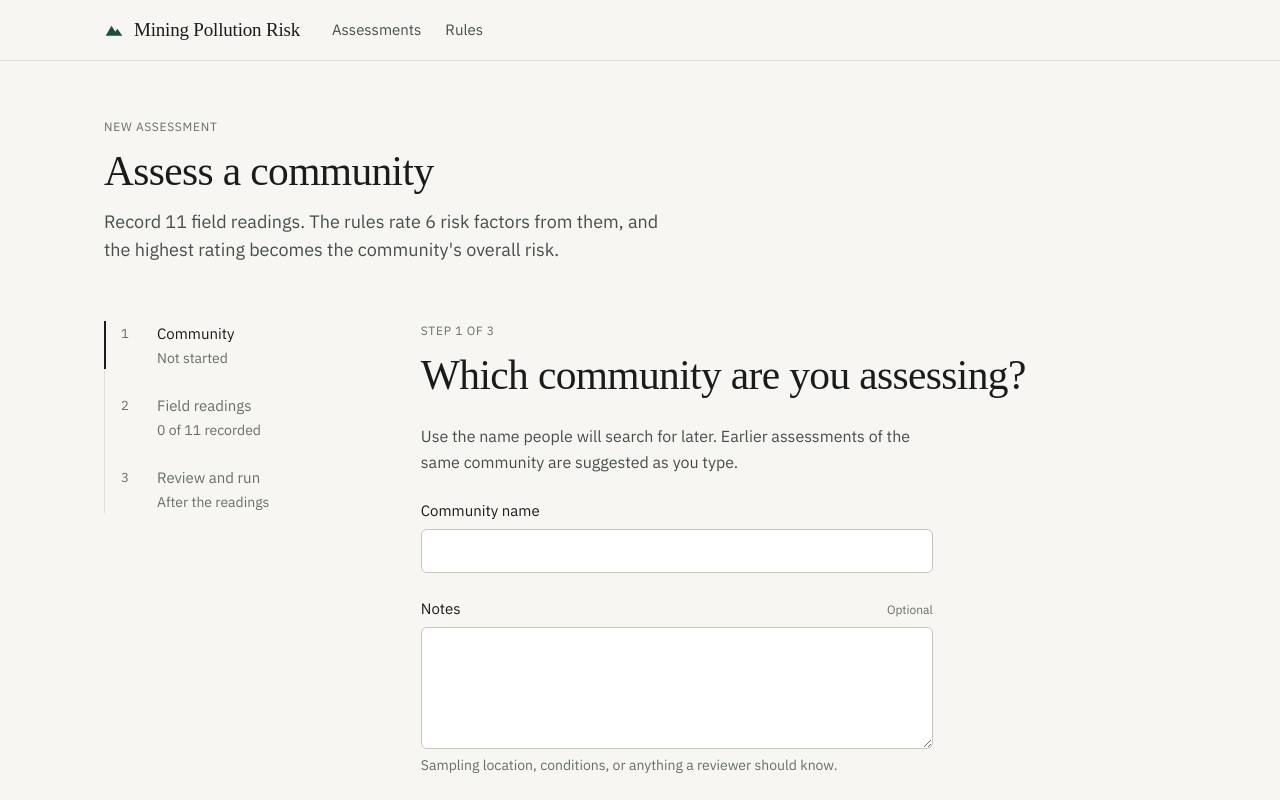
Test case: New assessment workflow › asks for confirmation before starting over
Type "Tarkwa" into the field labelled "Community name". click: (677, 551)
box: x1=421 y1=529 x2=933 y2=573
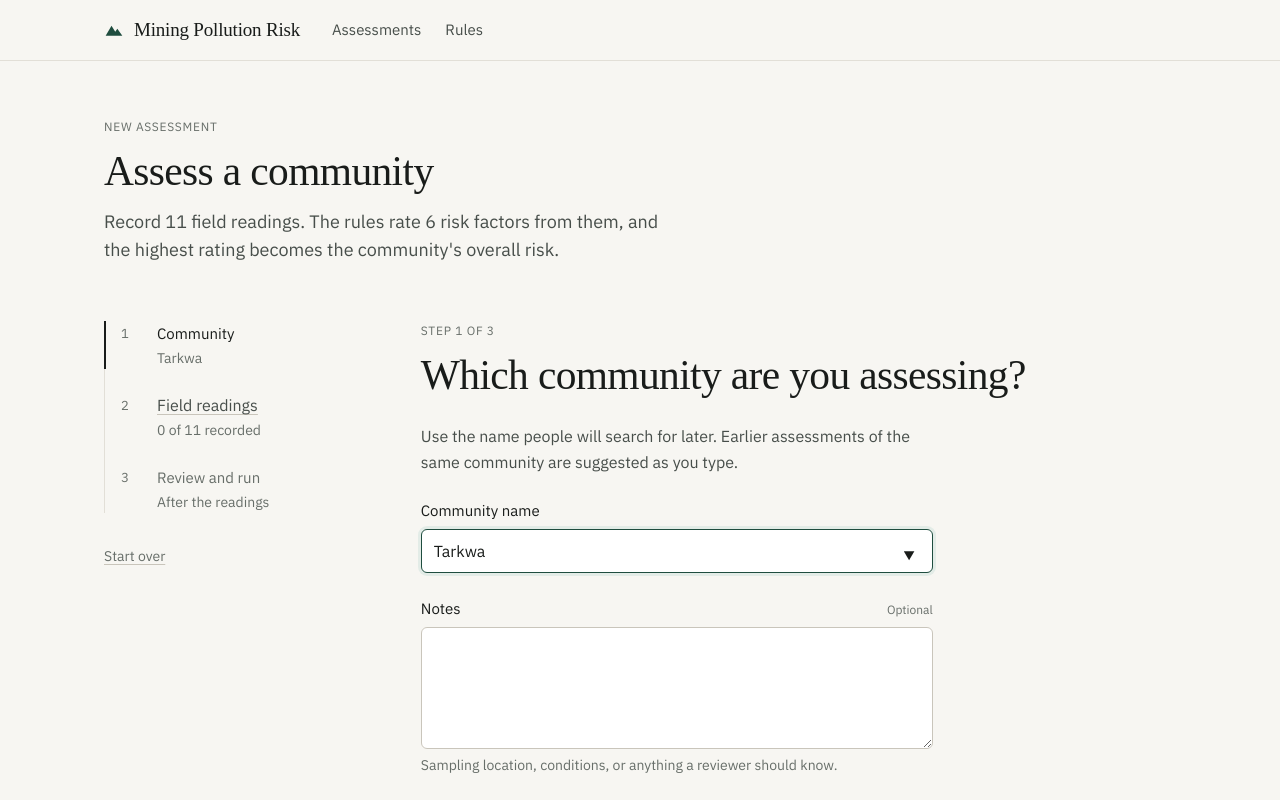
Click the button "Start over". click: click(135, 556)
box: x1=104 y1=545 x2=165 y2=568
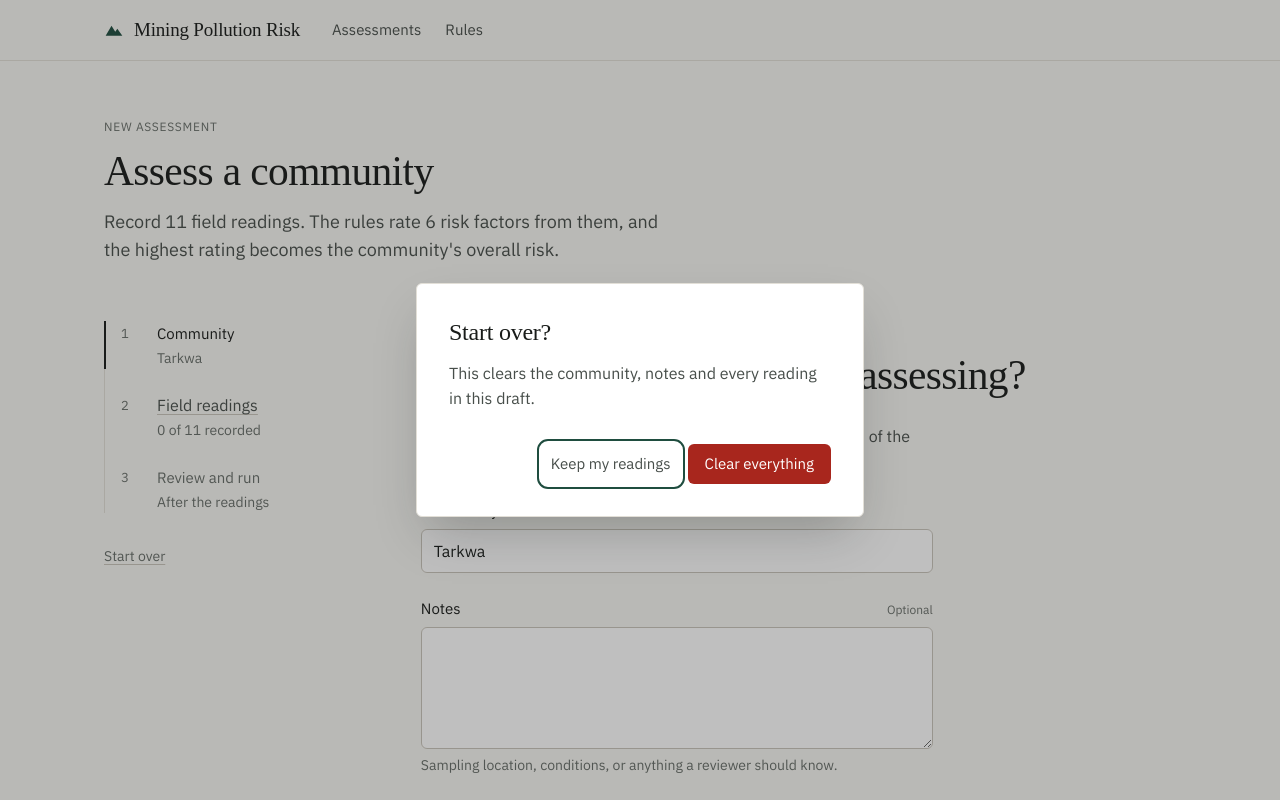
Click the button "Keep my readings". click: click(611, 464)
box: x1=542 y1=444 x2=680 y2=484
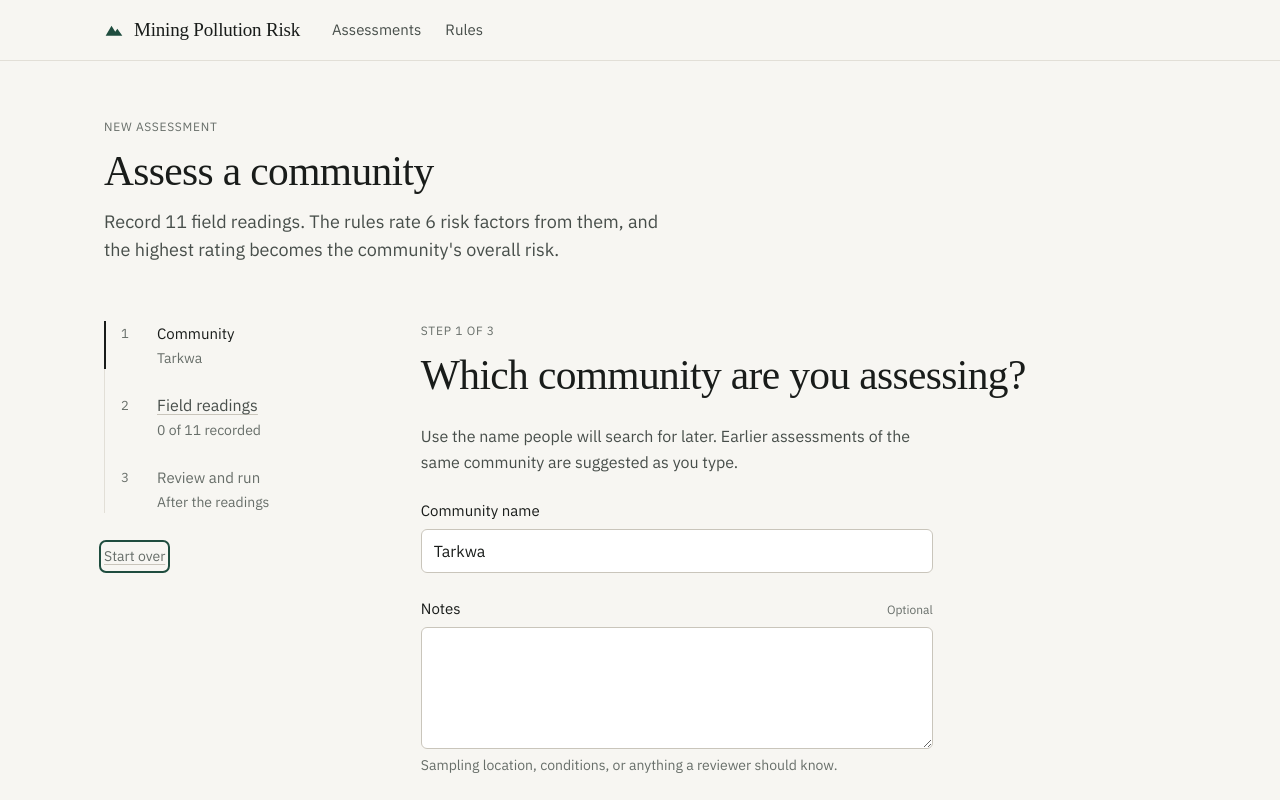
Click the button "Start over". click: click(135, 556)
box: x1=104 y1=545 x2=165 y2=568
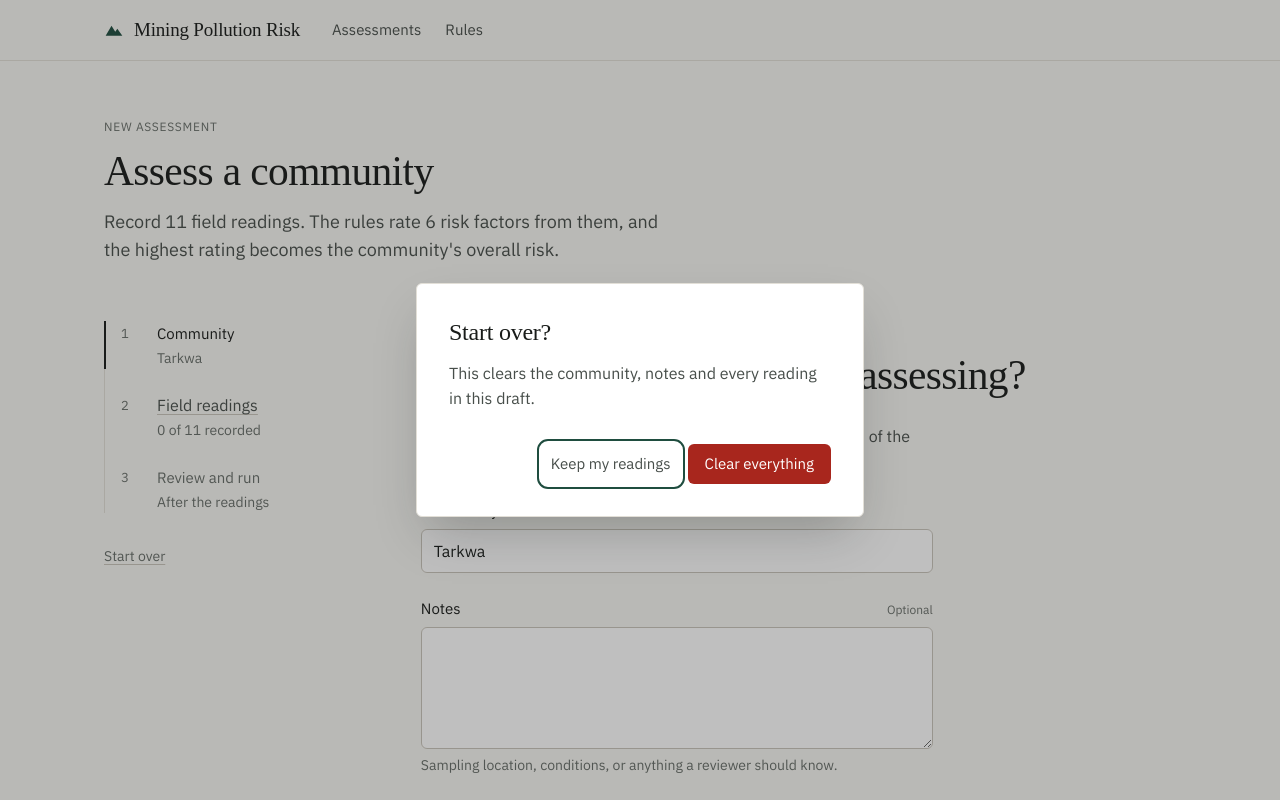
Click the button "Clear everything". click: click(759, 464)
box: x1=688 y1=444 x2=831 y2=484
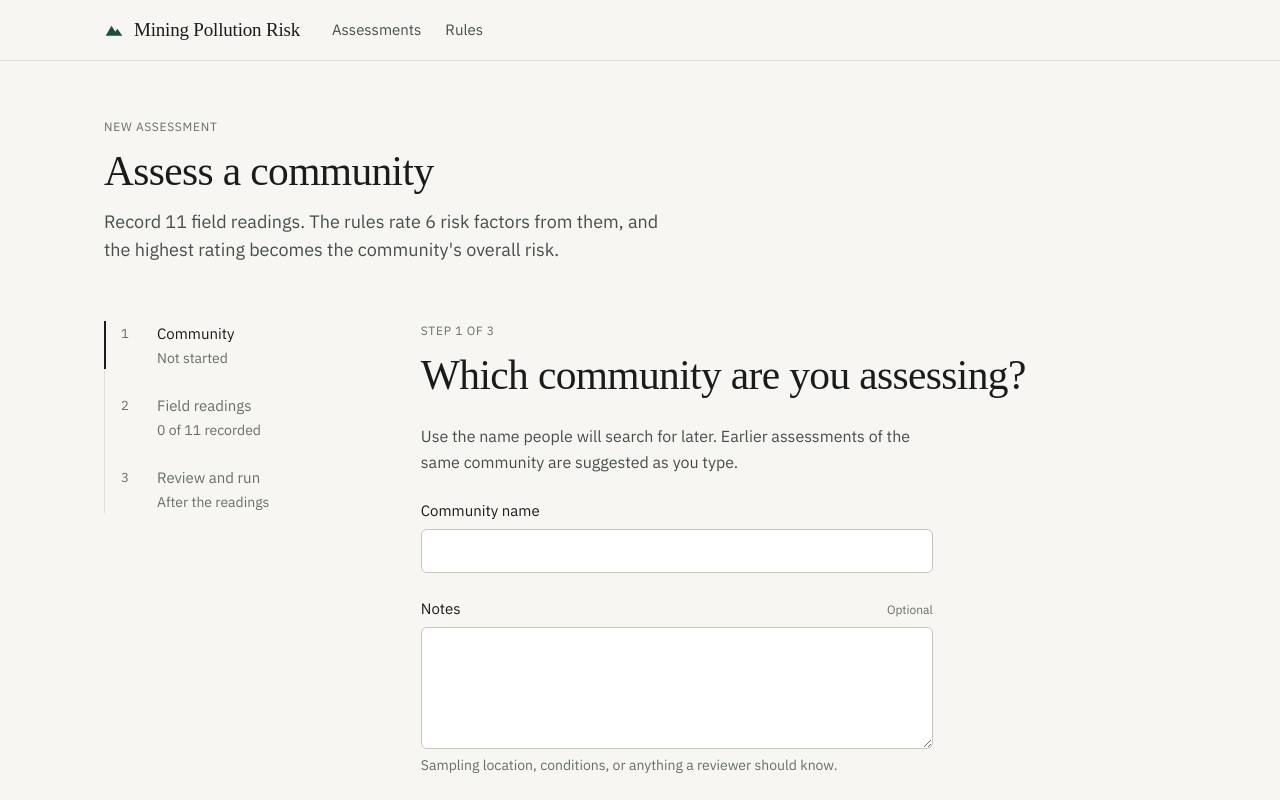
expect the field labelled "Community name" is empty: met, box x1=421 y1=529 x2=933 y2=573
expect the button "Start over" is gone: met
